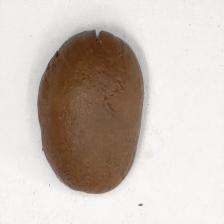NG: (53, 29, 116, 63)
